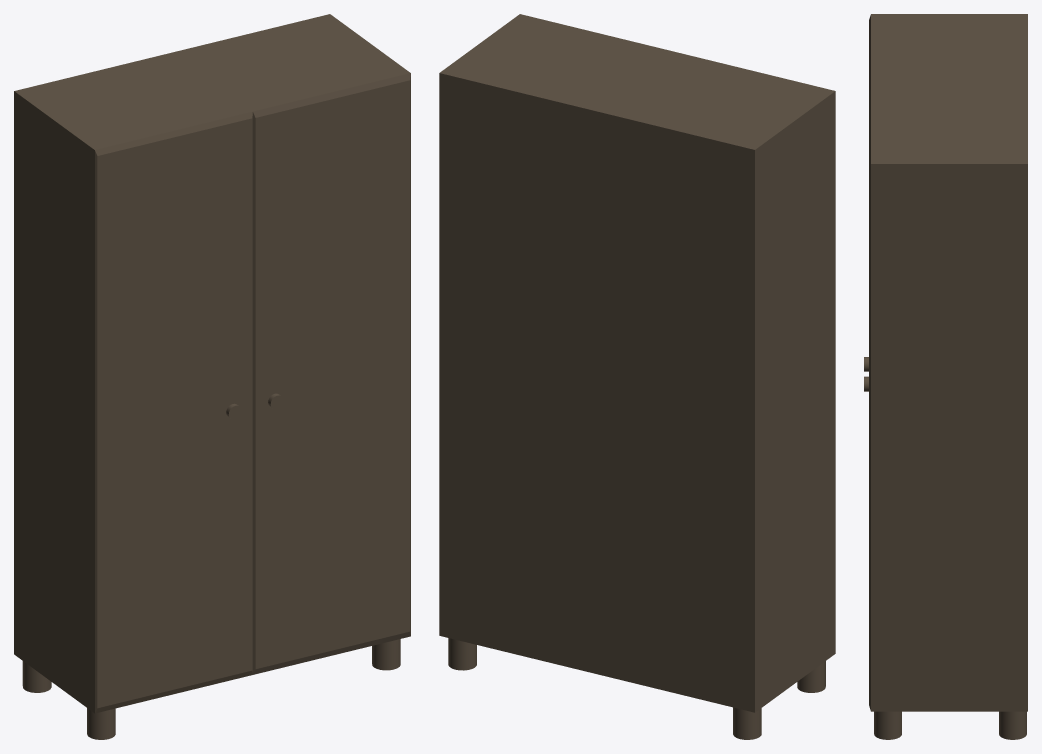
The model's file is Wardrobe.fbx.
3 renders of one model, left to right at view 1: azimuth 30°, elevation 25°; view 2: azimuth 150°, elevation 25°; view 3: azimuth 270°, elevation 25°, orthographic. The views are drawn at different scales.
Visible parts, largest first — view 1: pCylinder7; view 2: pCylinder7; view 3: pCylinder7.
Part boxes in pixels (bbox=[...]): pCylinder7: bbox=[14, 14, 410, 739]; pCylinder7: bbox=[439, 14, 835, 739]; pCylinder7: bbox=[864, 14, 1027, 739].
Size of the model in its own units: 113 by 204 by 52.39.
